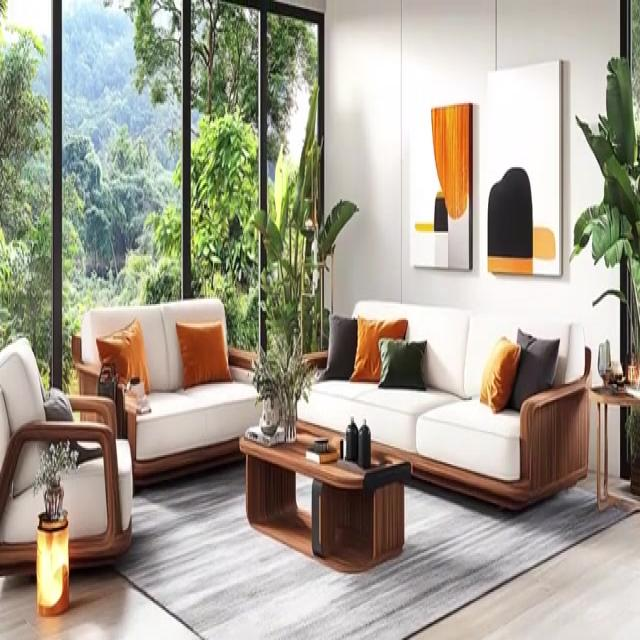obstacle: (294, 297, 591, 512), (70, 295, 262, 487), (238, 418, 411, 572), (589, 382, 639, 510)
